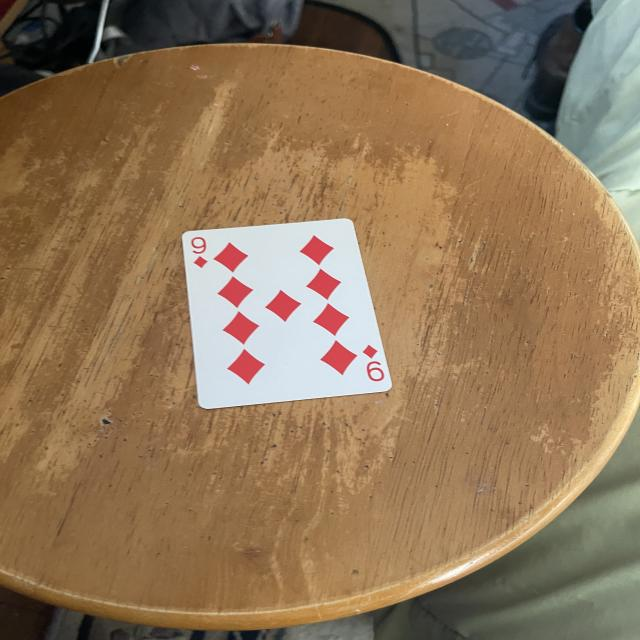9 of diamonds: (182, 219, 392, 408)
